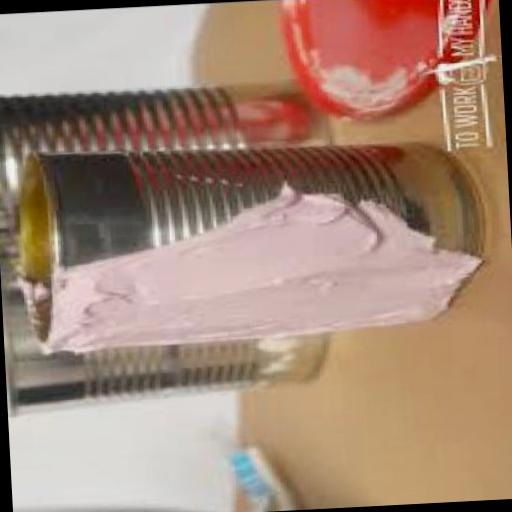metal: (0, 79, 341, 416), (12, 138, 490, 352)
